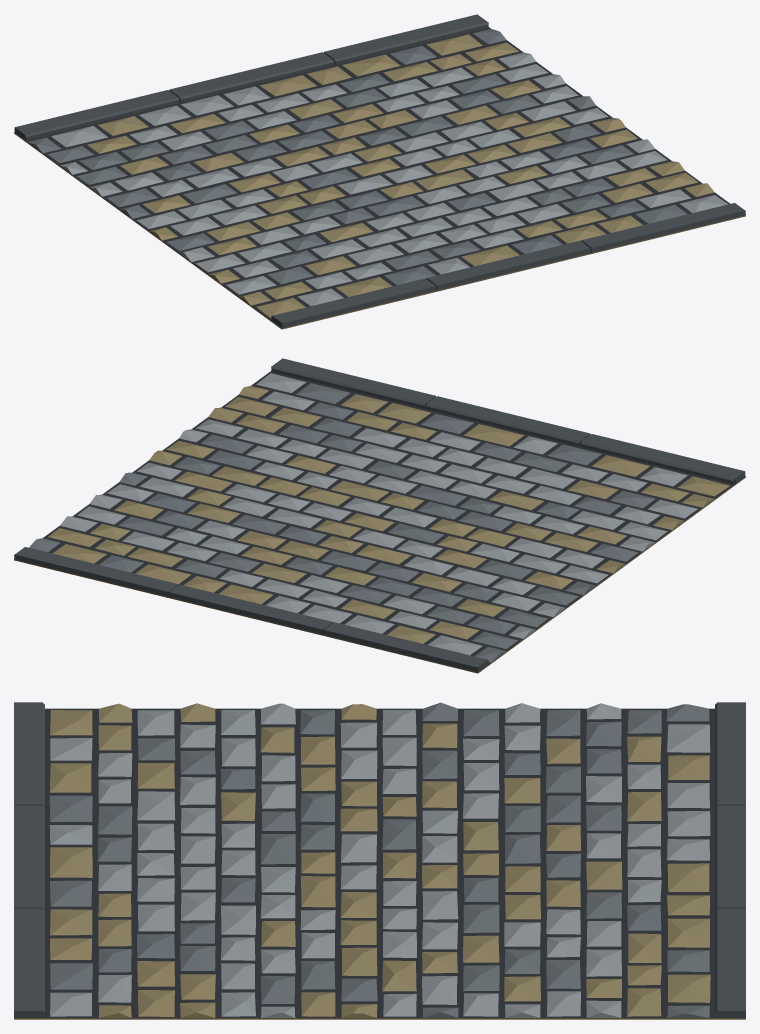
The model's file is cobblestone-street-tile-c1dca2.glb.
3 renders of one model, top to bottom at view 1: azimuth 30°, elevation 25°; view 2: azimuth 150°, elevation 25°; view 3: azimuth 270°, elevation 25°, orthographic. The views are drawn at different scales.
Parts seen in each view (by area): view 1: cobblestone-street; view 2: cobblestone-street; view 3: cobblestone-street.
Part boxes in pixels (bbox=[...]): cobblestone-street: bbox=[14, 14, 745, 329]; cobblestone-street: bbox=[14, 358, 745, 673]; cobblestone-street: bbox=[14, 702, 745, 1019].
Bounding box in the file's own units: 4 × 0.05 × 4.
